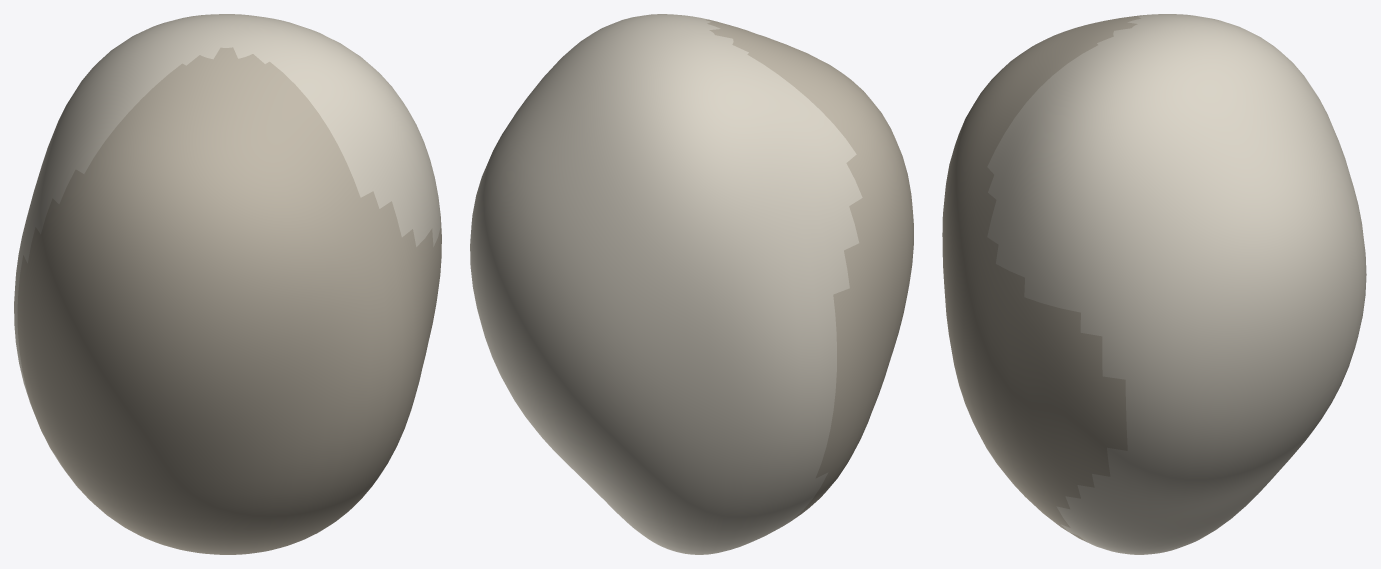
Rendered from Stone_02_Egg.fbx.
The picture shows the model from 3 angles, left to right: view 1: azimuth 30°, elevation 25°; view 2: azimuth 150°, elevation 25°; view 3: azimuth 270°, elevation 25°; orthographic projection.
Visible parts, largest first — view 1: Stone_02_Egg; view 2: Stone_02_Egg; view 3: Stone_02_Egg.
Part boxes in pixels (x1=…): Stone_02_Egg: x1=14, y1=14, x2=441, y2=554; Stone_02_Egg: x1=470, y1=14, x2=913, y2=554; Stone_02_Egg: x1=942, y1=14, x2=1366, y2=554.
Size of the model in its own units: 0.0314 by 0.0402 by 0.03.
